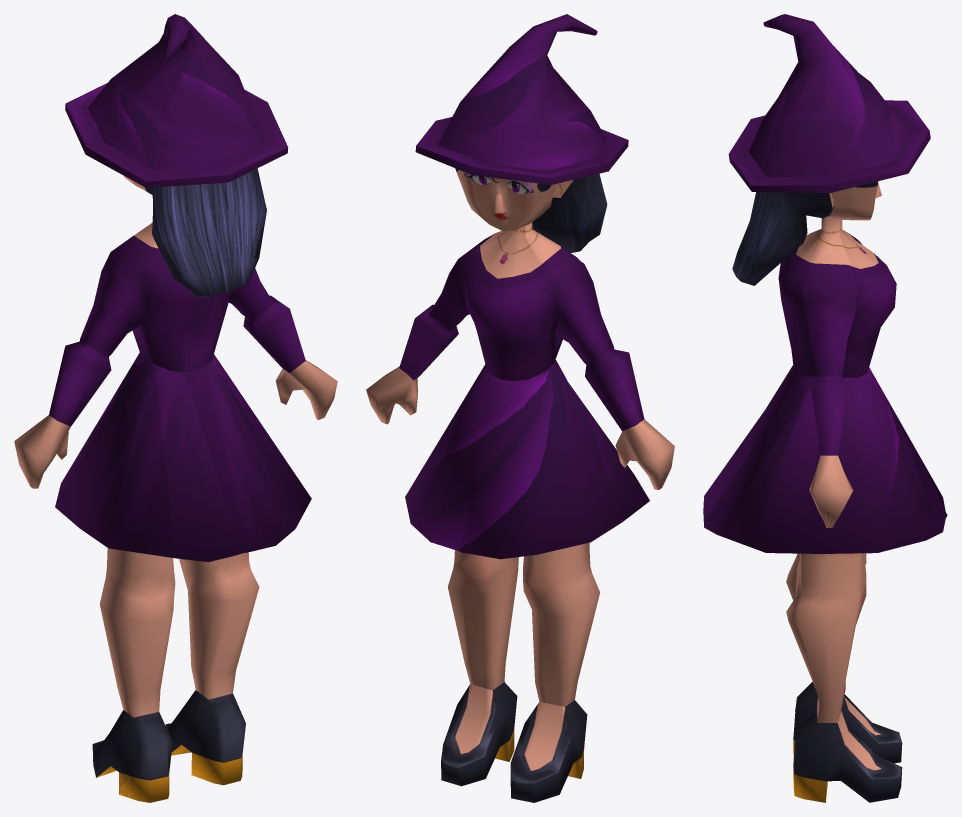
The model's file is Witch_Model.fbx.
3 views of the same model, side by side, from view 1: azimuth 30°, elevation 25°; view 2: azimuth 150°, elevation 25°; view 3: azimuth 270°, elevation 25° (orthographic). The views are drawn at different scales.
Parts seen in each view (by area): view 1: Player; view 2: Player; view 3: Player.
Part boxes in pixels (x1,y1,x2,y2): Player: [14, 14, 337, 802]; Player: [366, 14, 674, 802]; Player: [703, 14, 947, 802].
Size of the model in its own units: 68.03 by 166 by 49.
Materials: 2 (2 with a texture image).
